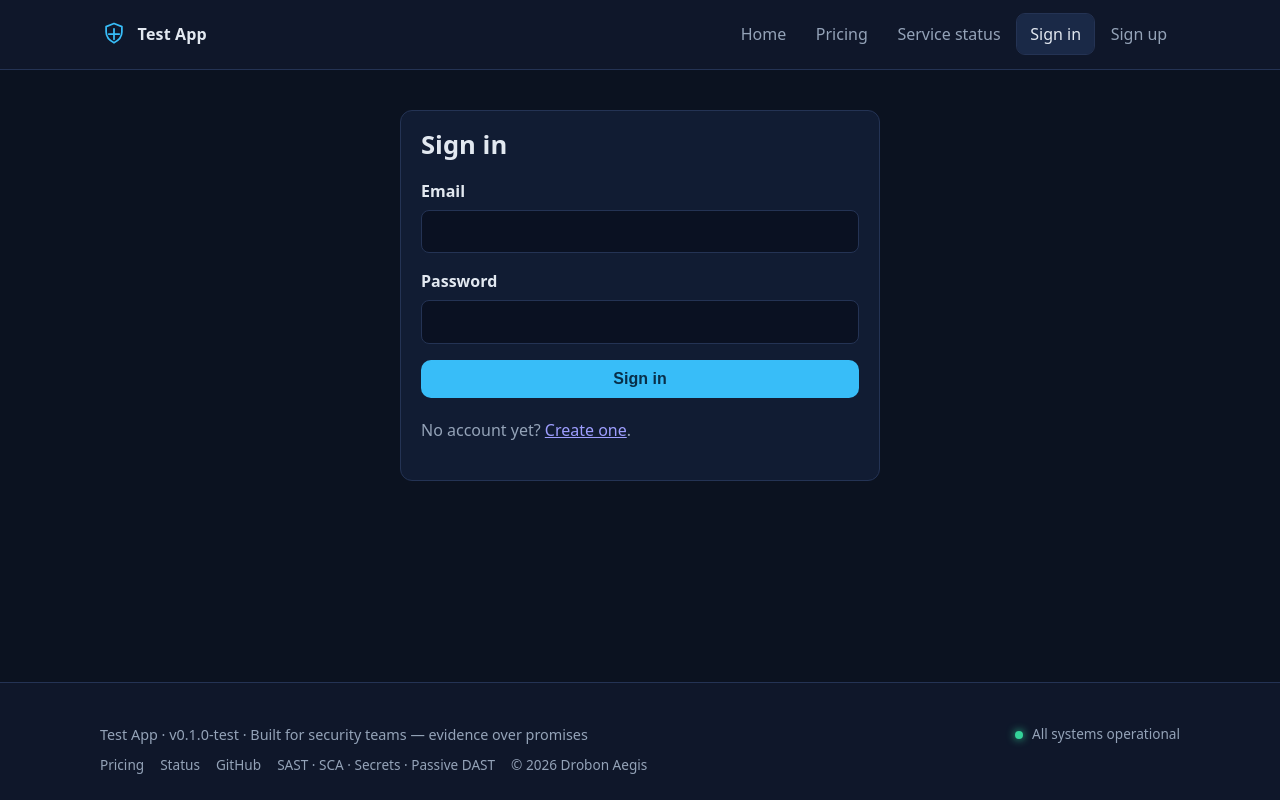
Test: login page › Student login lands on the Student dashboard
This screenshot has width=1280, height=800.
Type "student@example.test" into the field labelled "Email".
click(640, 232); type("student@example.test")  # box [421, 210, 859, 253]
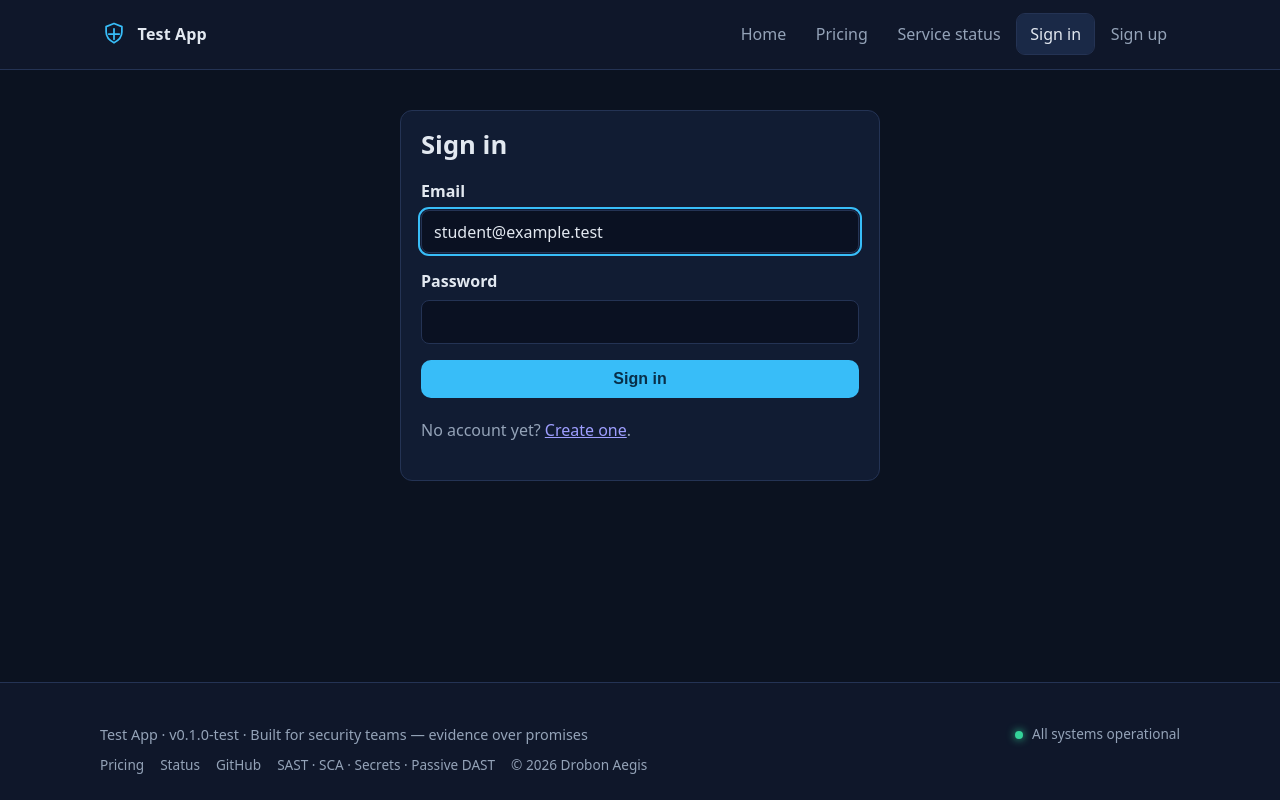
Type "student-password" into the password field labelled "Password".
click(640, 322); type("student-password")  # box [421, 300, 859, 344]
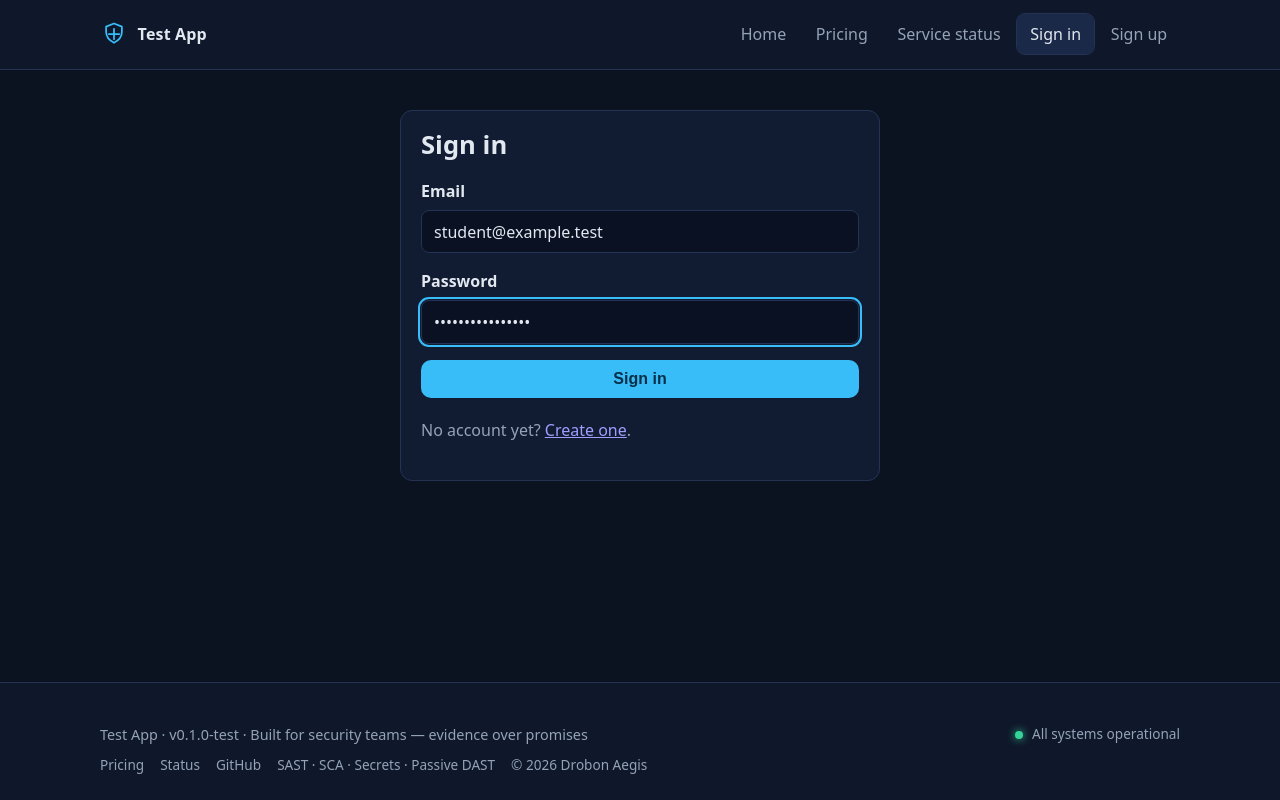
Click the button "Sign in".
click(640, 379)  # box [421, 360, 859, 398]
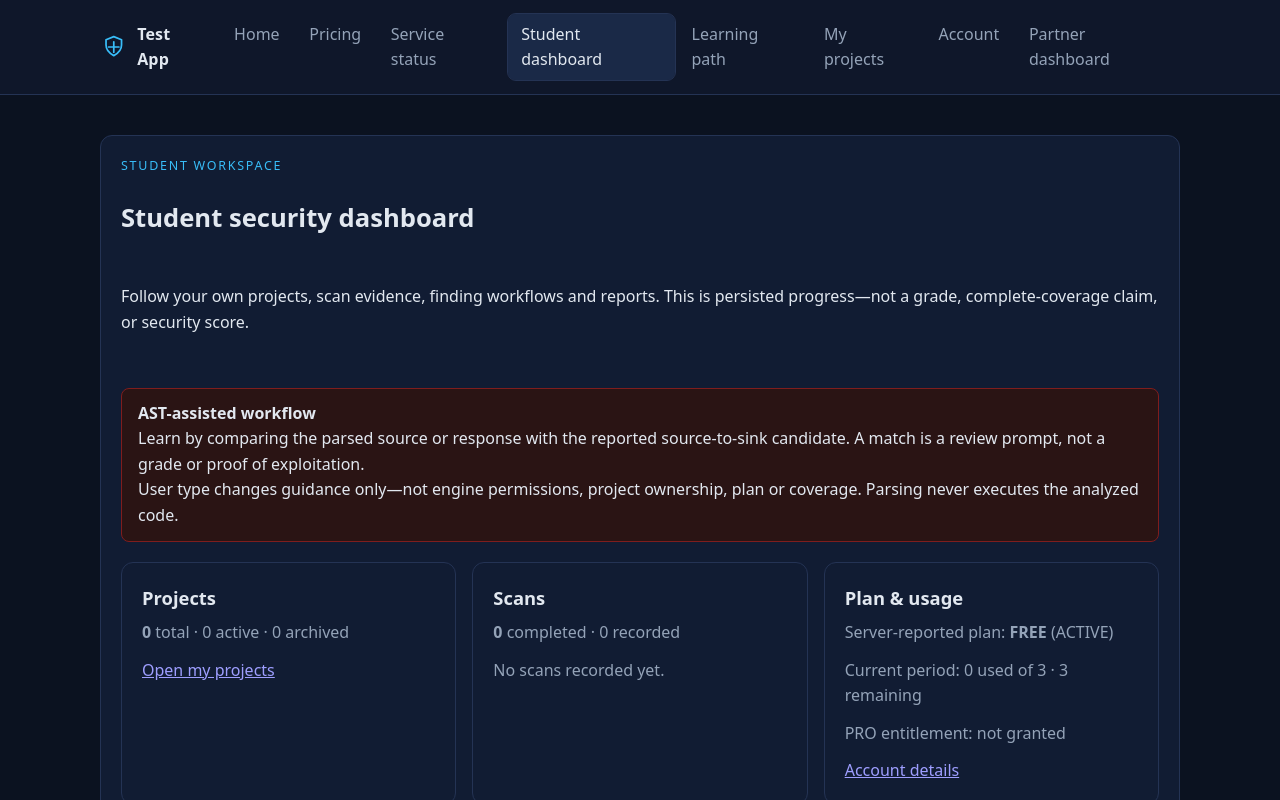
Expected: the heading "Student security dashboard" is shown, [121, 200, 474, 235]
